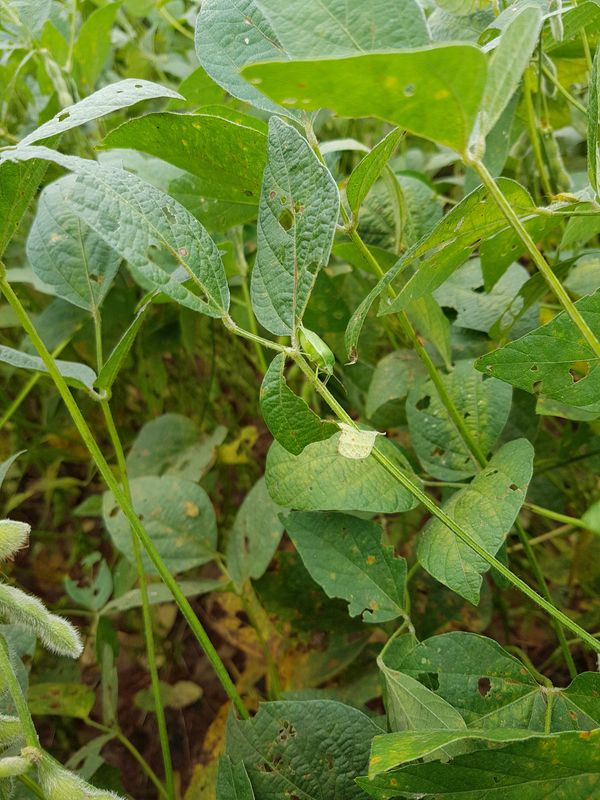Nezara_viridula_adulto: (278, 311, 355, 393)
